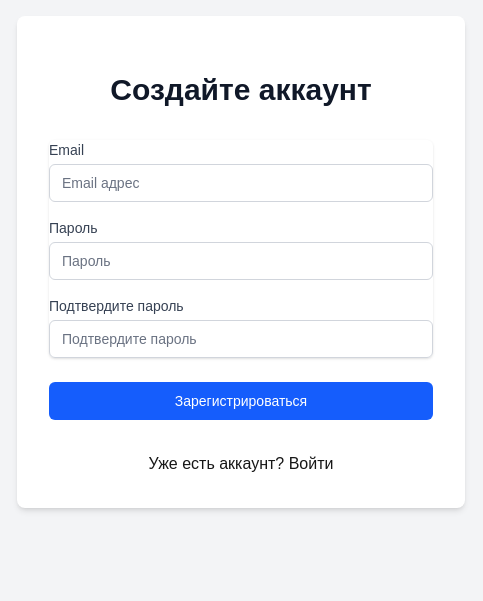
Test: SignUpContent › показывает ошибки валидации при отправке пустой формы
Click the button "Зарегистрироваться" at (241, 401), box [49,382,433,420]
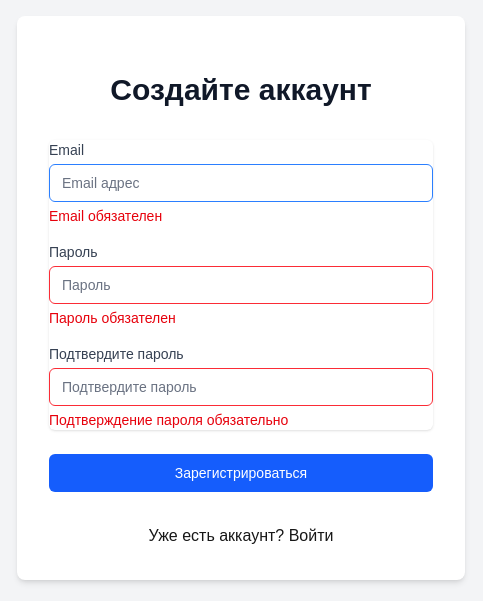
Expected: the text "Email обязателен" is shown, [49,208,162,224]
Expected: the text "Пароль обязателен" is shown, [49,310,176,326]
Expected: the text "Подтверждение пароля обязательно" is shown, [49,412,288,428]
